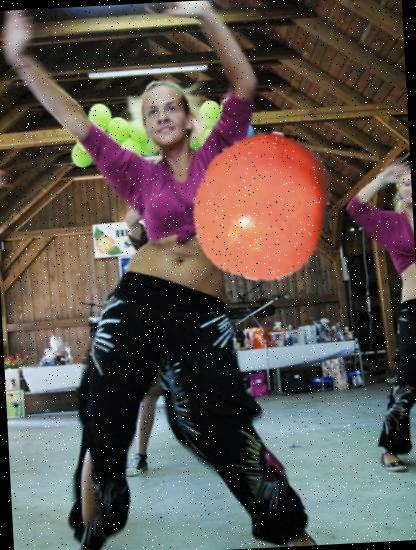Clementine: (184, 126, 342, 284)
